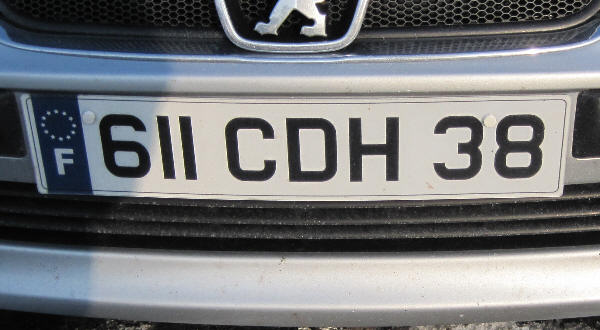license_plate: (22, 91, 568, 197)
